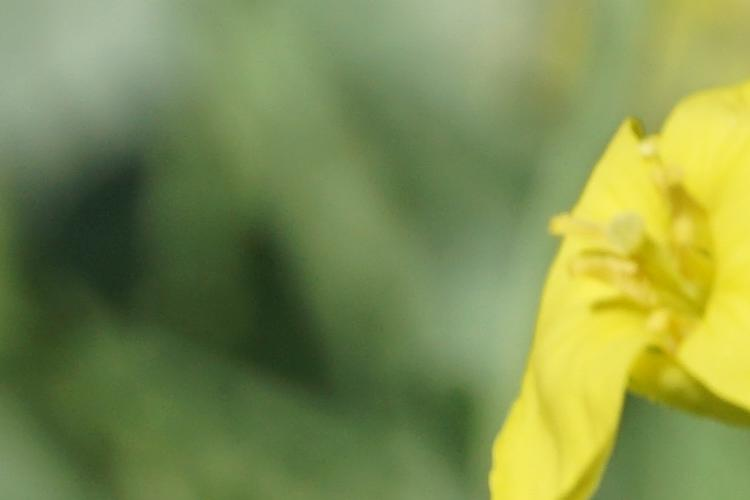yellow: (516, 109, 750, 462)
